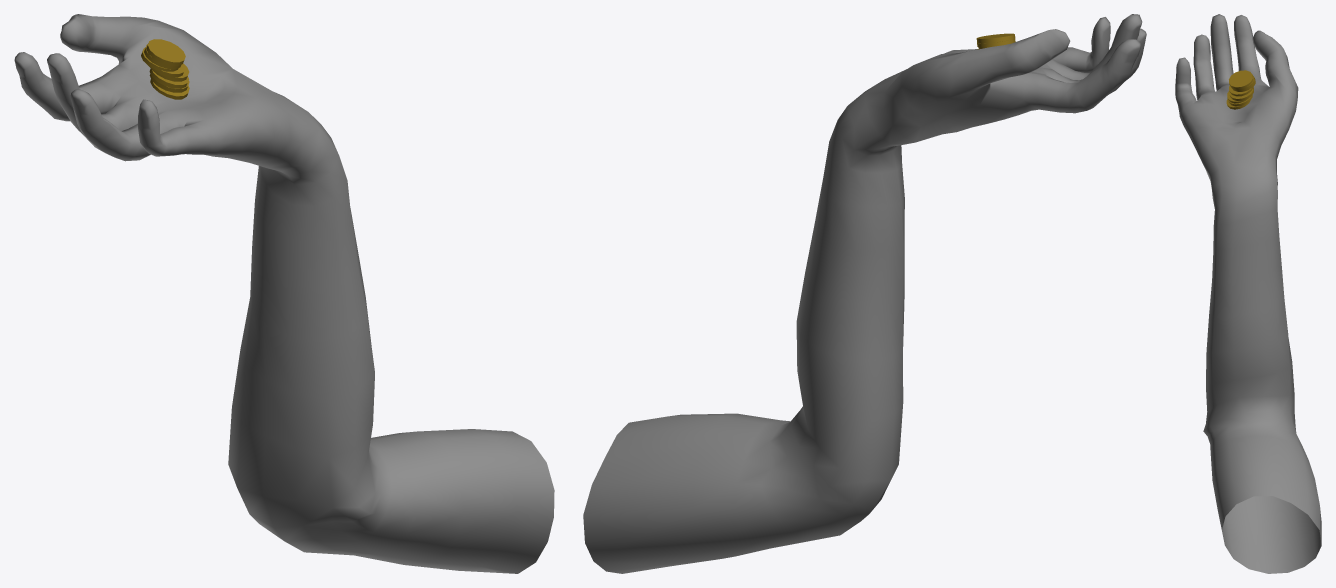
The model's file is arm_torch_3.fbx.
3 views of the same model, side by side, from view 1: azimuth 30°, elevation 25°; view 2: azimuth 150°, elevation 25°; view 3: azimuth 270°, elevation 25° (orthographic). The views are drawn at different scales.
Visible parts, largest first — view 1: Arm_torch_3, c1; view 2: Arm_torch_3; view 3: Arm_torch_3, c1.
Boxes of the visible parts, x1,y1,x2,y2 form: Arm_torch_3: [14, 14, 554, 573]; c1: [146, 39, 185, 65]; Arm_torch_3: [583, 14, 1146, 573]; Arm_torch_3: [1175, 14, 1321, 573]; c1: [1229, 70, 1253, 89].
Size of the model in its own units: 77.4 by 93.18 by 29.9.
